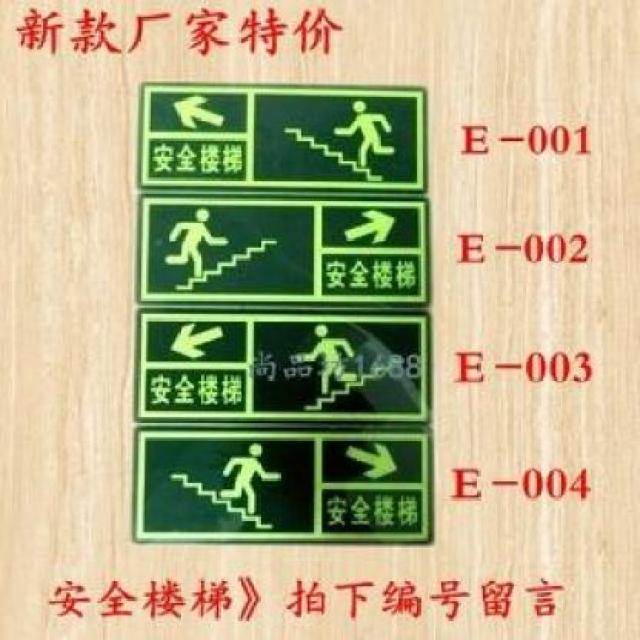exit_sign: (136, 436, 442, 550), (138, 195, 436, 304), (140, 312, 435, 422), (134, 81, 430, 186)
